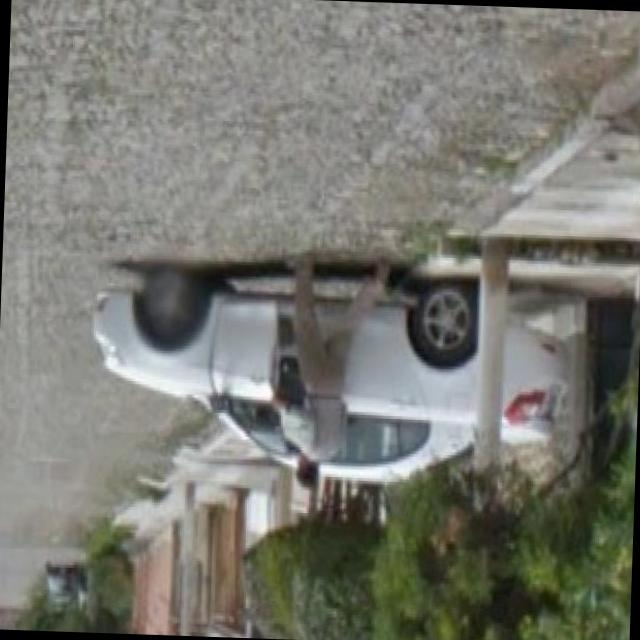car: (88, 248, 577, 494)
